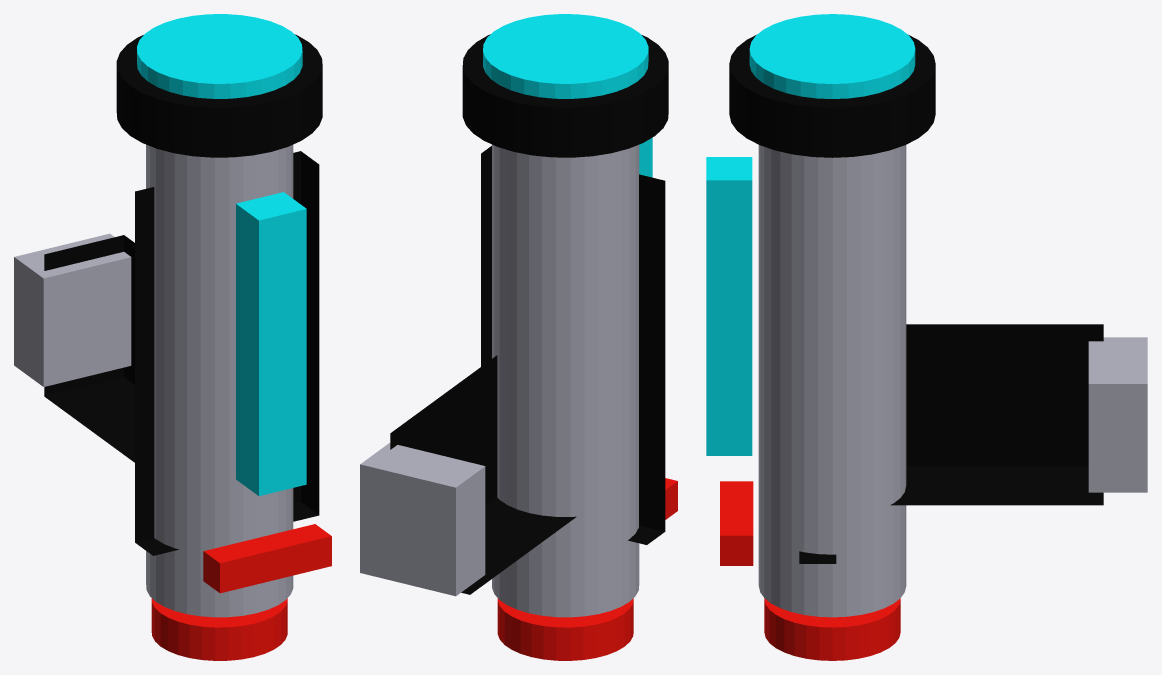
File: dpn_neuralizer_prop.obj
The picture shows the model from 3 angles, left to right: view 1: azimuth 30°, elevation 25°; view 2: azimuth 150°, elevation 25°; view 3: azimuth 270°, elevation 25°; orthographic projection.
Visible parts, largest first — view 1: dpn_neuralizer_prop; view 2: dpn_neuralizer_prop; view 3: dpn_neuralizer_prop.
Boxes of the visible parts, x1=… form: dpn_neuralizer_prop: x1=14, y1=14, x2=331, y2=660; dpn_neuralizer_prop: x1=360, y1=14, x2=677, y2=660; dpn_neuralizer_prop: x1=706, y1=14, x2=1147, y2=660.
Size of the model in its own units: 0.112 by 0.349 by 0.2395.
